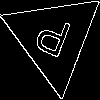P: (29, 13, 74, 68)
